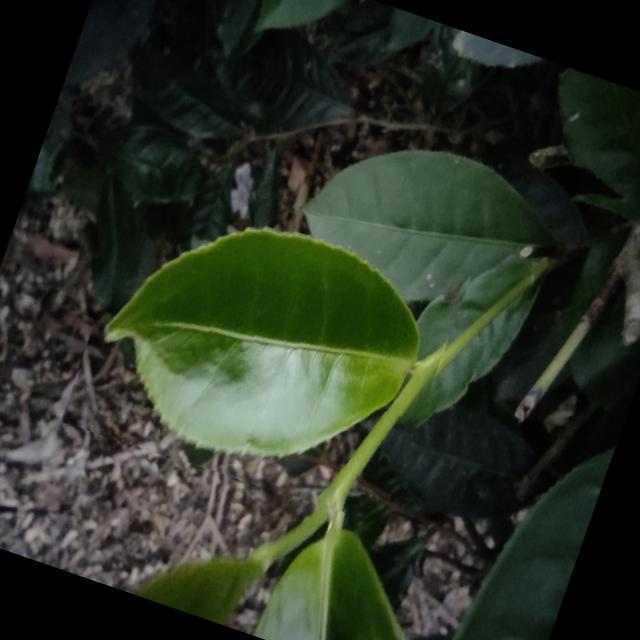Category C(4-7 days): (60, 159, 472, 533)
